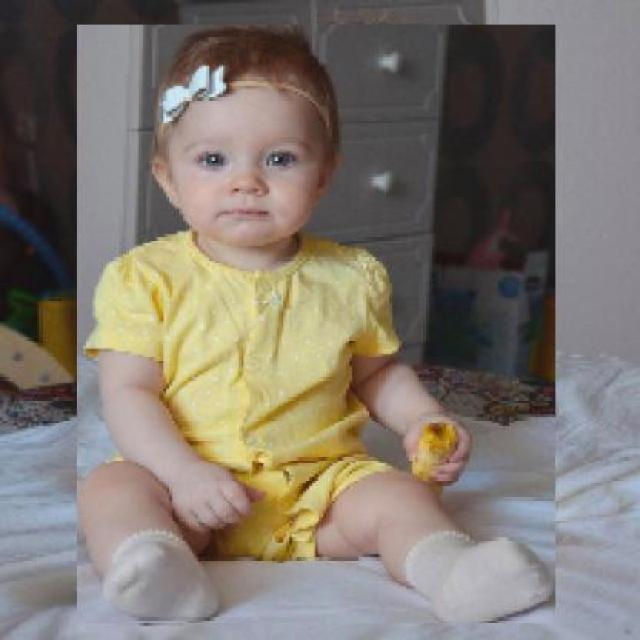child: (74, 25, 554, 624)
